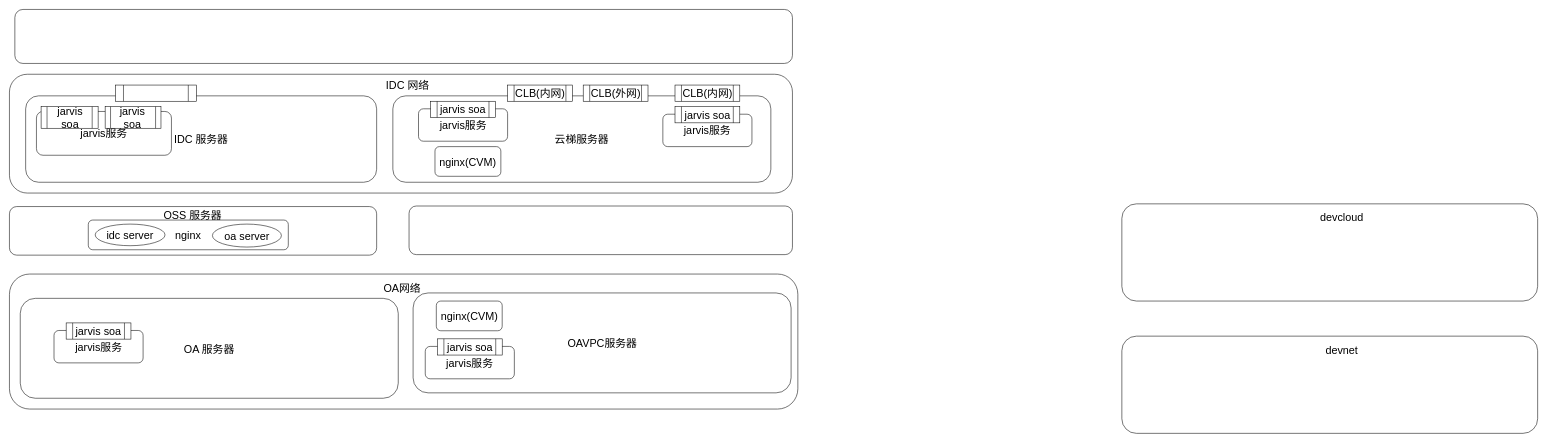
This 1547x443 diagram has some shape labels left out. Here are the shapes that lost their labels. From the top down, the centre of each, then its label:
At pixel 403 36: "公网".
At pixel 155 93: "stgw(外网)".
At pixel 600 230: "应用网关".
